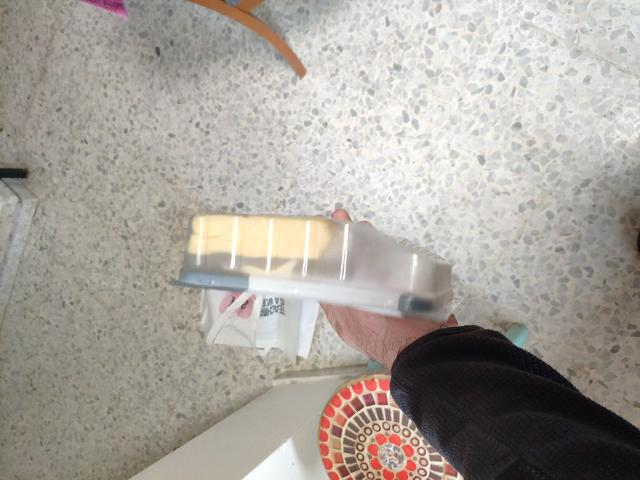cheese: (174, 137, 396, 459)
